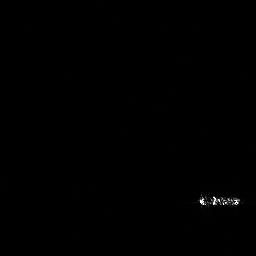ship: (193, 191, 243, 210)
